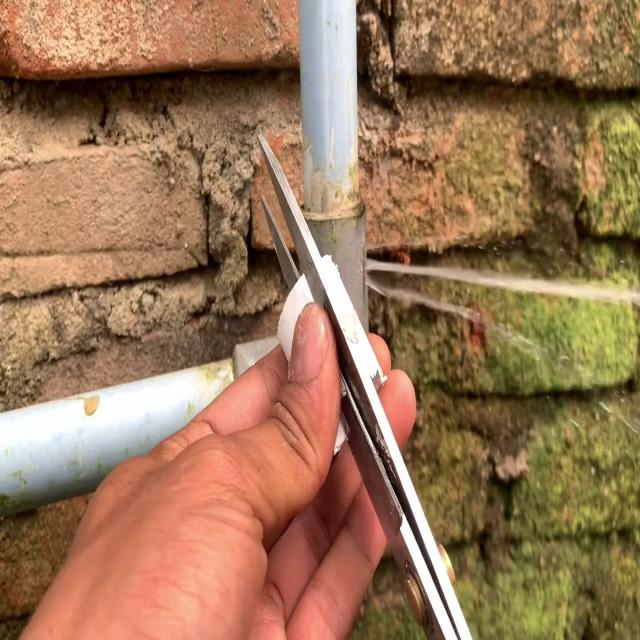leak: (364, 258, 640, 305)
